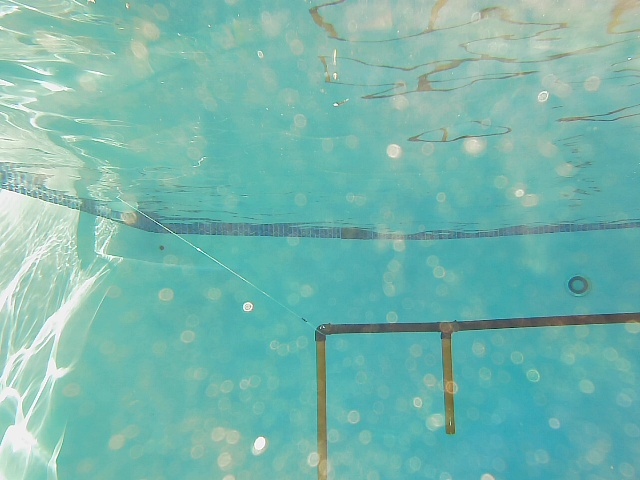Gate: (312, 334, 333, 480), (439, 335, 458, 435)
